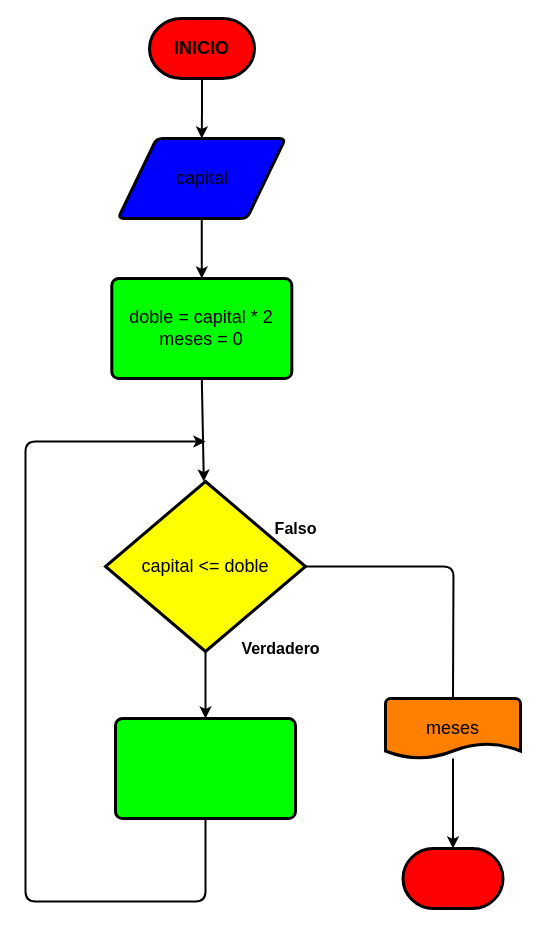
The diagram is 539 pixels wide and 928 high, and some of its shapes have lost their labels. Here are the shapes that lost their labels. From the top down, the centre of each, then its label:
(205,768): capital = capital + (capital * 5%) meses = meses + 1
(452,878): FIN
